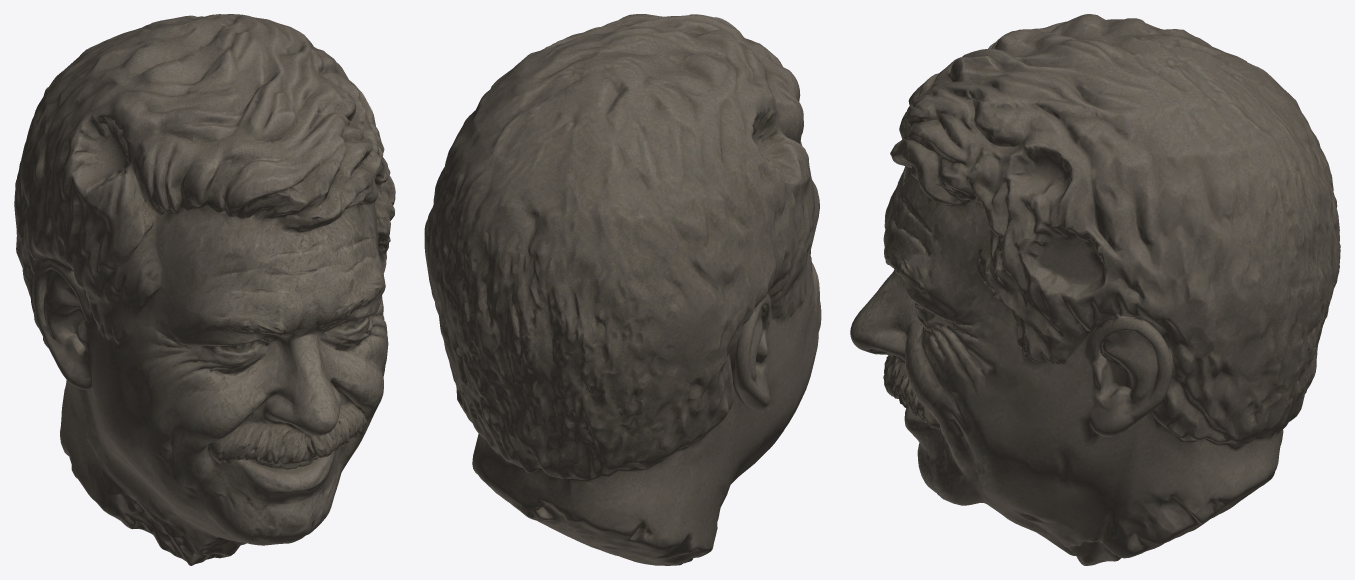
File: Green.glb
3 views of the same model, side by side, from view 1: azimuth 30°, elevation 25°; view 2: azimuth 150°, elevation 25°; view 3: azimuth 270°, elevation 25° (orthographic). The views are drawn at different scales.
Bounding box in the file's own units: 1.21 × 1.9 × 1.59.
1 material, 1 textured.
